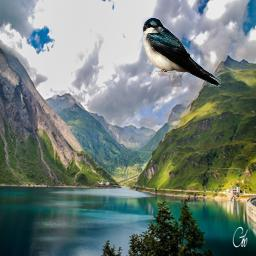Swallow: (142, 17, 221, 87)
